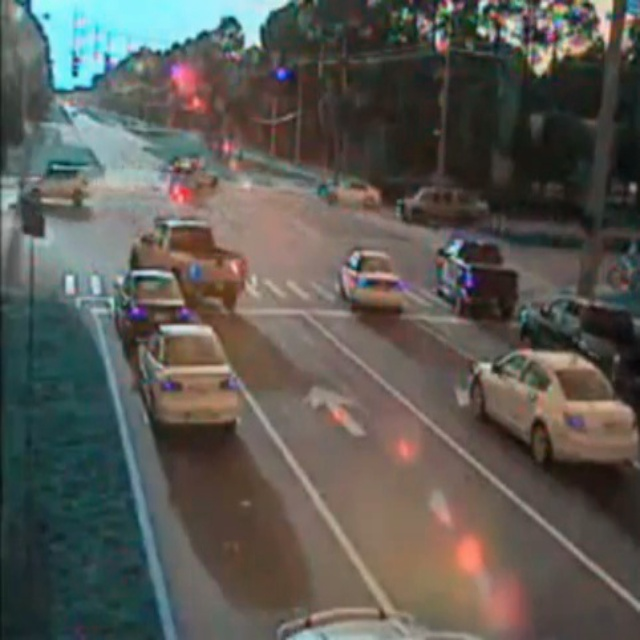acc: (142, 141, 228, 218)
